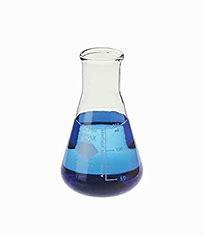Titrarion: (54, 41, 151, 196)
